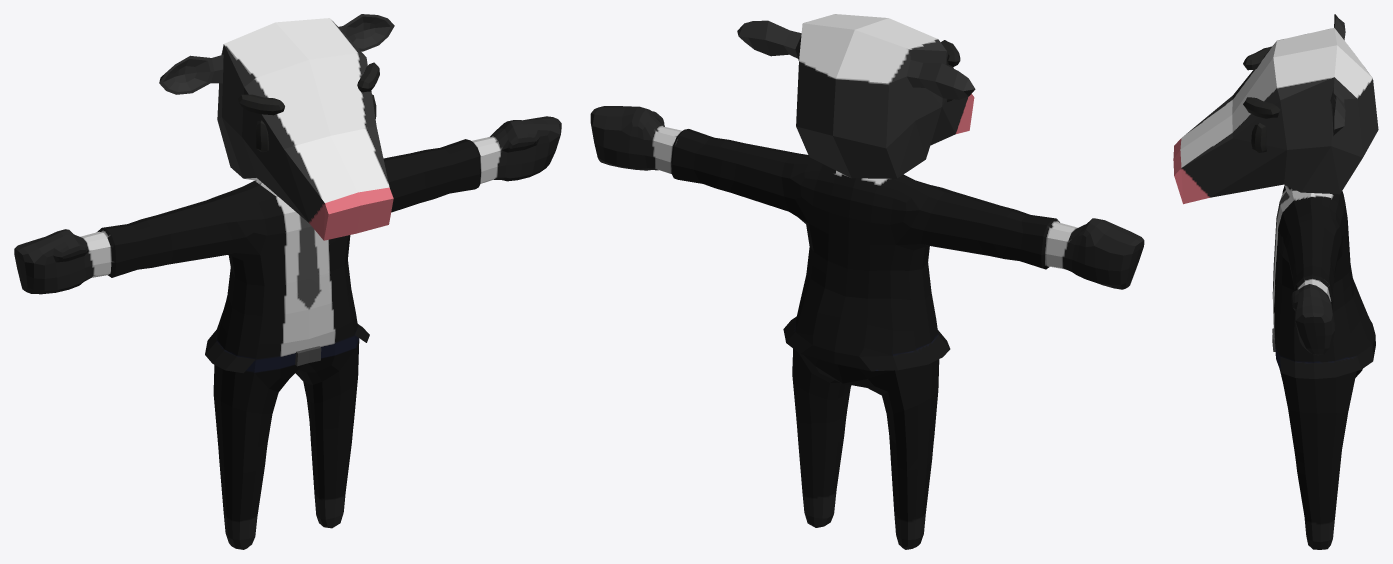
Rendered from Cow.fbx.
3 views of the same model, side by side, from view 1: azimuth 30°, elevation 25°; view 2: azimuth 150°, elevation 25°; view 3: azimuth 270°, elevation 25° (orthographic). The views are drawn at different scales.
Parts seen in each view (by area): view 1: Body; view 2: Body; view 3: Body.
Boxes of the visible parts, x1,y1,x2,y2 form: Body: [14, 14, 561, 549]; Body: [590, 14, 1144, 549]; Body: [1173, 14, 1378, 549].
Bounding box in the file's own units: 324 × 291 × 112.
1 material, 1 textured.
